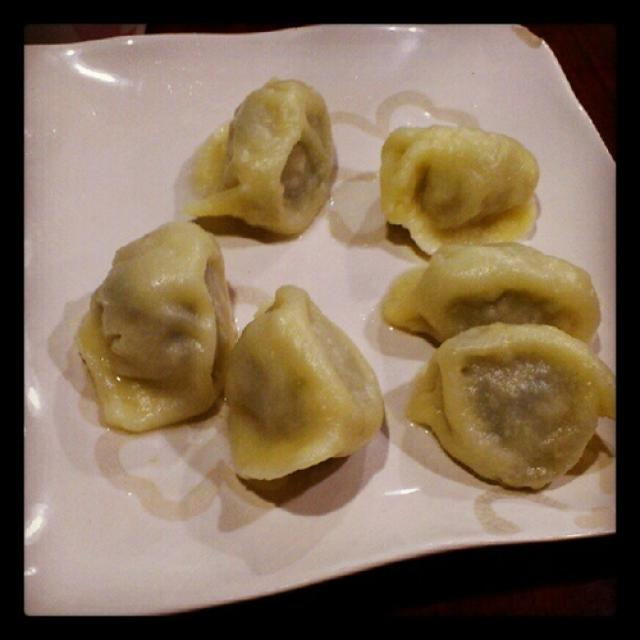带馅早点: (29, 23, 616, 611)
